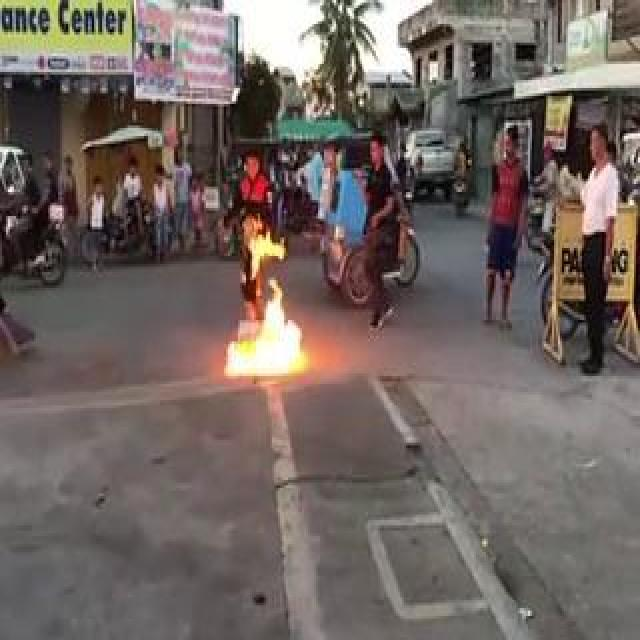Smoke: (219, 282, 307, 378)
